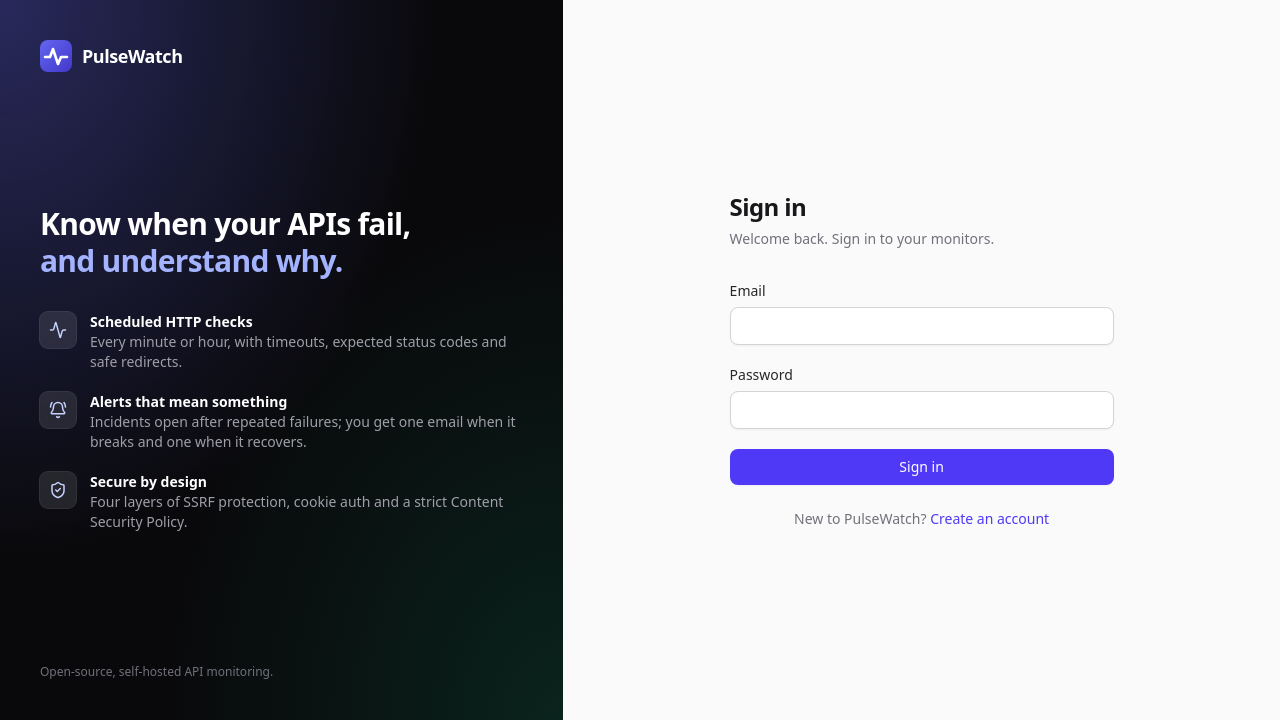
it: sign-in flow › shows the server message for wrong credentials
The width and height of the screenshot is (1280, 720).
Type "owner@example.com" into the field labelled "Email" at [922, 326], box [730,307,1114,345]
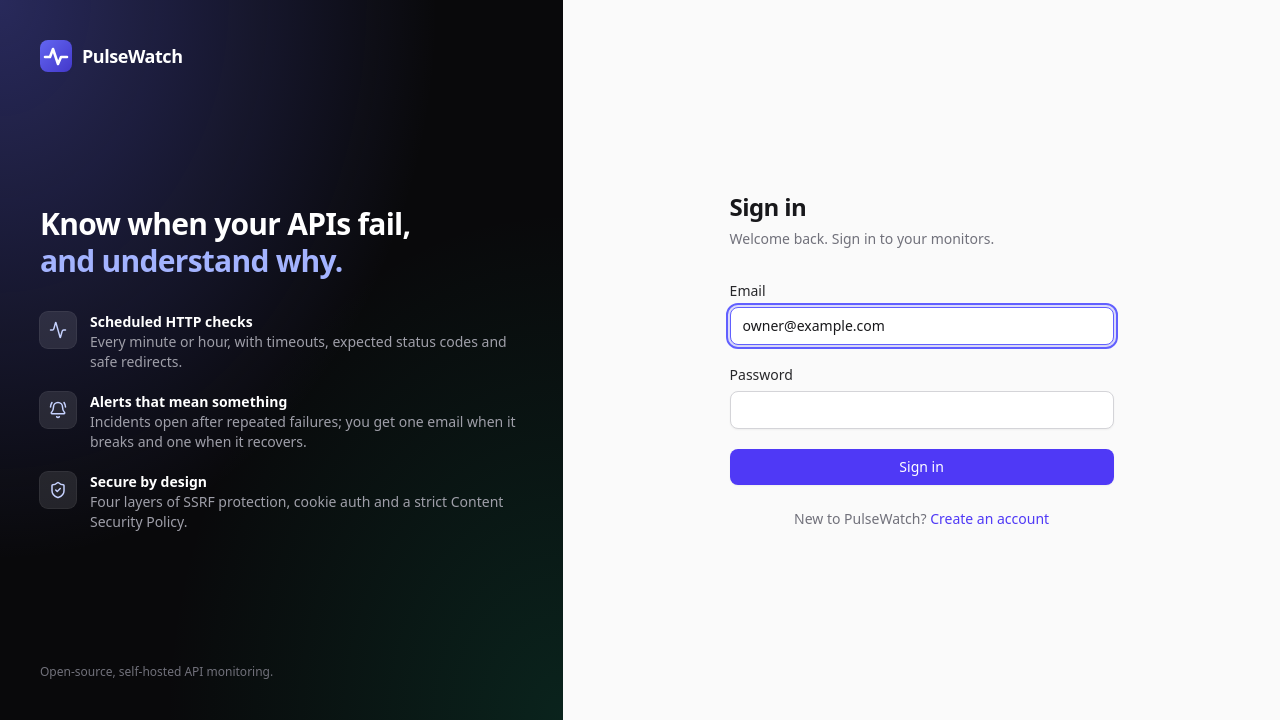
Type "wrong password!!" into the password field labelled "Password" at [922, 410], box [730,391,1114,429]
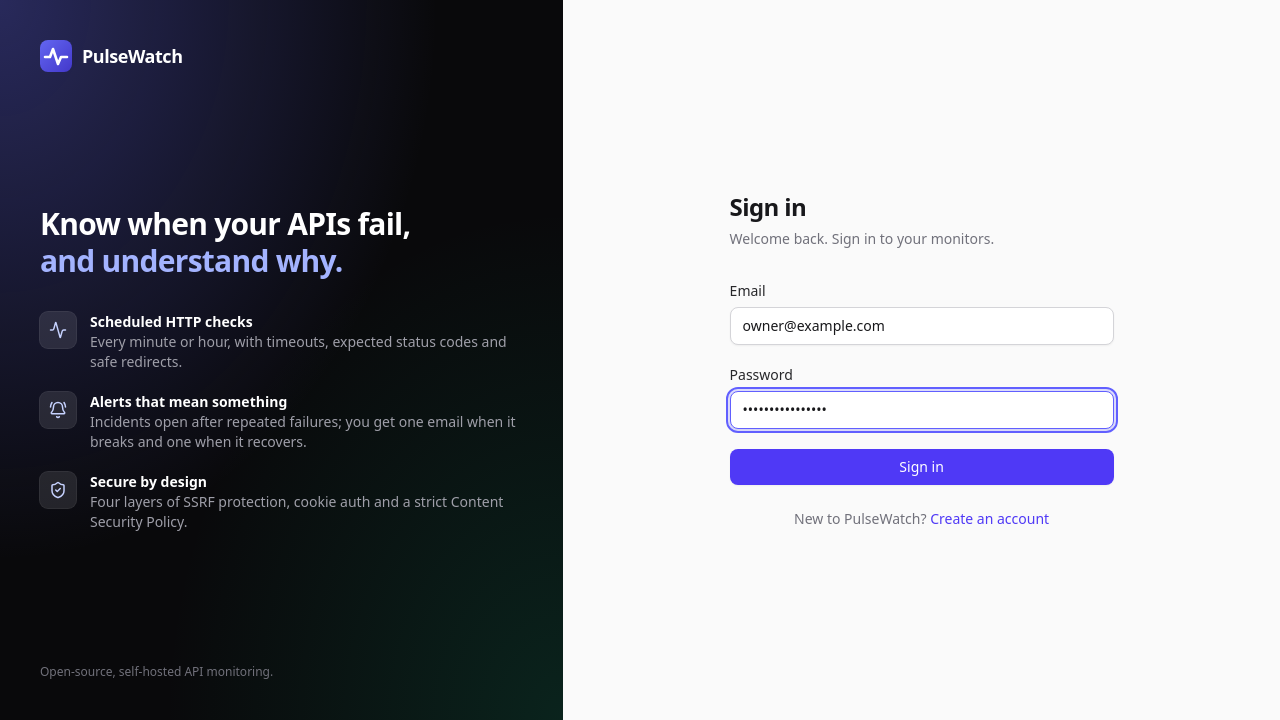
Click the button "Sign in" at [922, 467], box [730,449,1114,485]
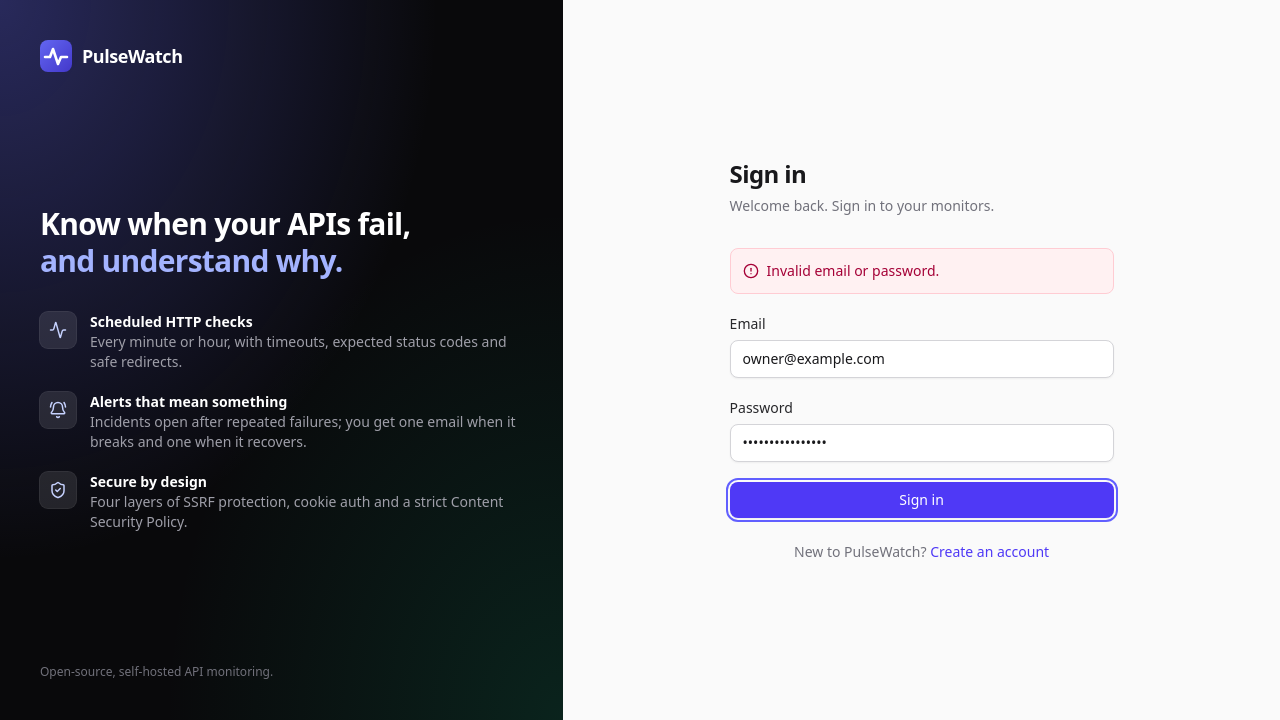
Expected: the message reads "Invalid email or password.", [767,261,939,280]
